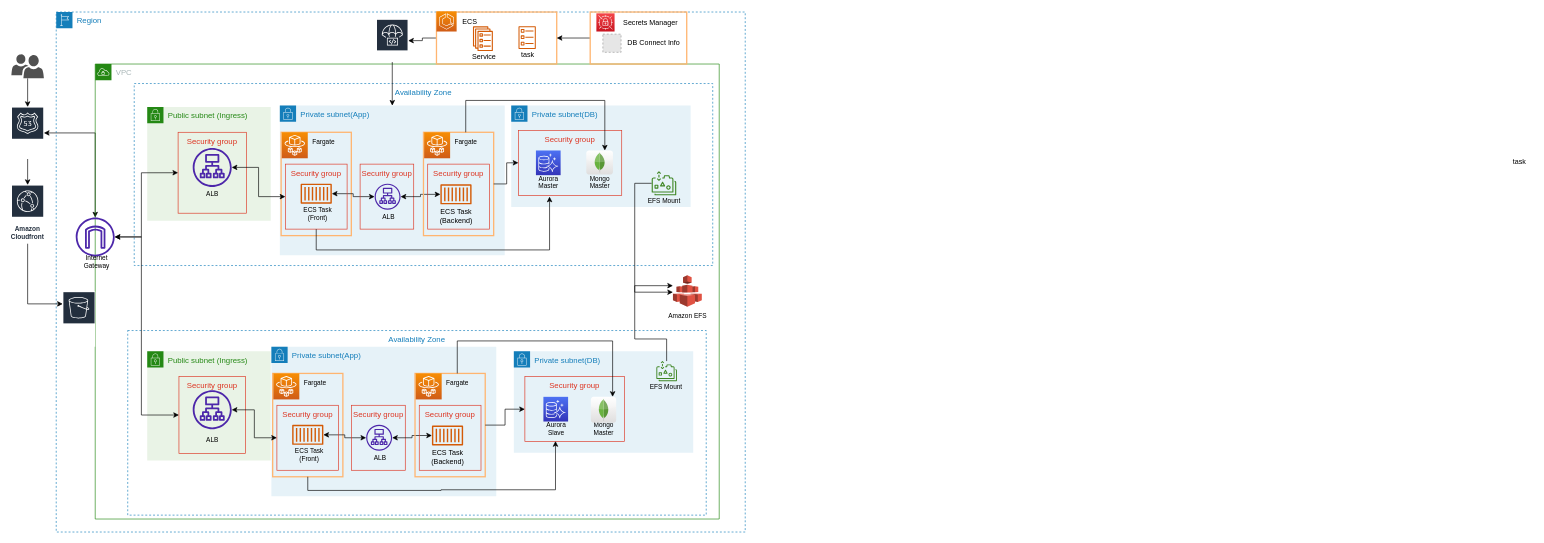
Image size: 1544x543. Some labels were removed from this diagram. Grey dashed boxes stand in for pictures. The centre of each missing label's shape, as x and y in pixels:
Amazon Route 53: point (27, 132)
Amazon S3: point (78, 319)
AWS CodeDeploy: point (392, 40)
